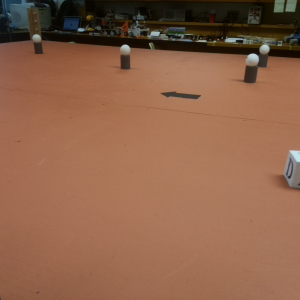blockD: (283, 148, 300, 185)
corner: (28, 8, 40, 35)
obstacle: (245, 53, 258, 83), (118, 45, 131, 70), (259, 44, 268, 67), (32, 34, 42, 53)
start: (158, 89, 202, 102)
